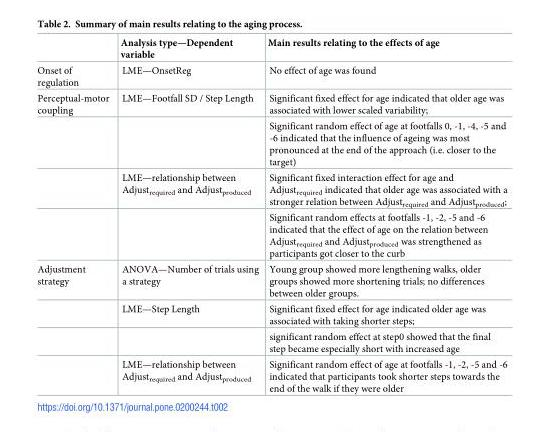table: (36, 37, 506, 393)
table column: (262, 37, 506, 393), (114, 37, 262, 393), (36, 37, 114, 393)
table column header: (36, 37, 506, 62)
table row: (36, 117, 506, 169), (36, 209, 506, 261), (36, 169, 506, 209), (36, 261, 506, 300), (36, 356, 506, 393), (36, 62, 506, 90), (36, 300, 506, 328), (36, 328, 506, 356), (36, 90, 506, 117), (36, 37, 506, 62)
table spanning cell: (36, 90, 114, 261), (36, 261, 114, 393)
